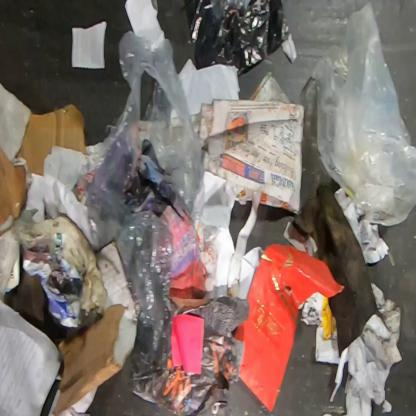cardboard: (51, 240, 138, 415), (10, 208, 108, 329), (15, 104, 87, 176), (0, 145, 28, 228)
soft_plastic: (83, 30, 206, 378), (311, 0, 416, 227)
